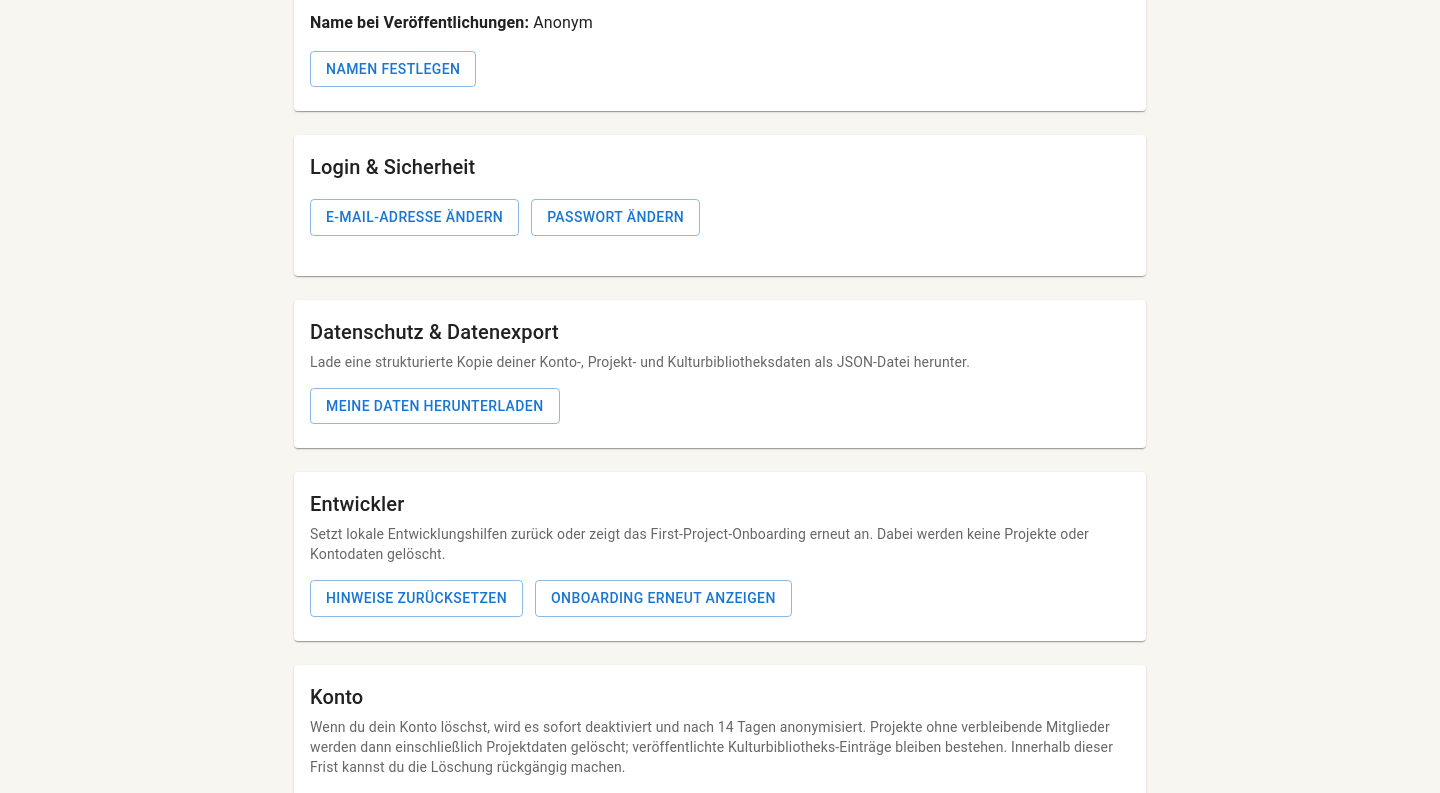
Test case: AccountSettingsPage › renders compact sections and keeps delete disabled until confirmation phrase is present
(page scrolled)
Check: the heading "Login & Sicherheit" is shown, box x1=310 y1=155 x2=475 y2=179
Check: the heading "Datenschutz & Datenexport" is shown, box x1=310 y1=320 x2=559 y2=344
Click the button "Meine Daten herunterladen". click: click(435, 406)
box: x1=310 y1=388 x2=560 y2=424
(page scrolled)
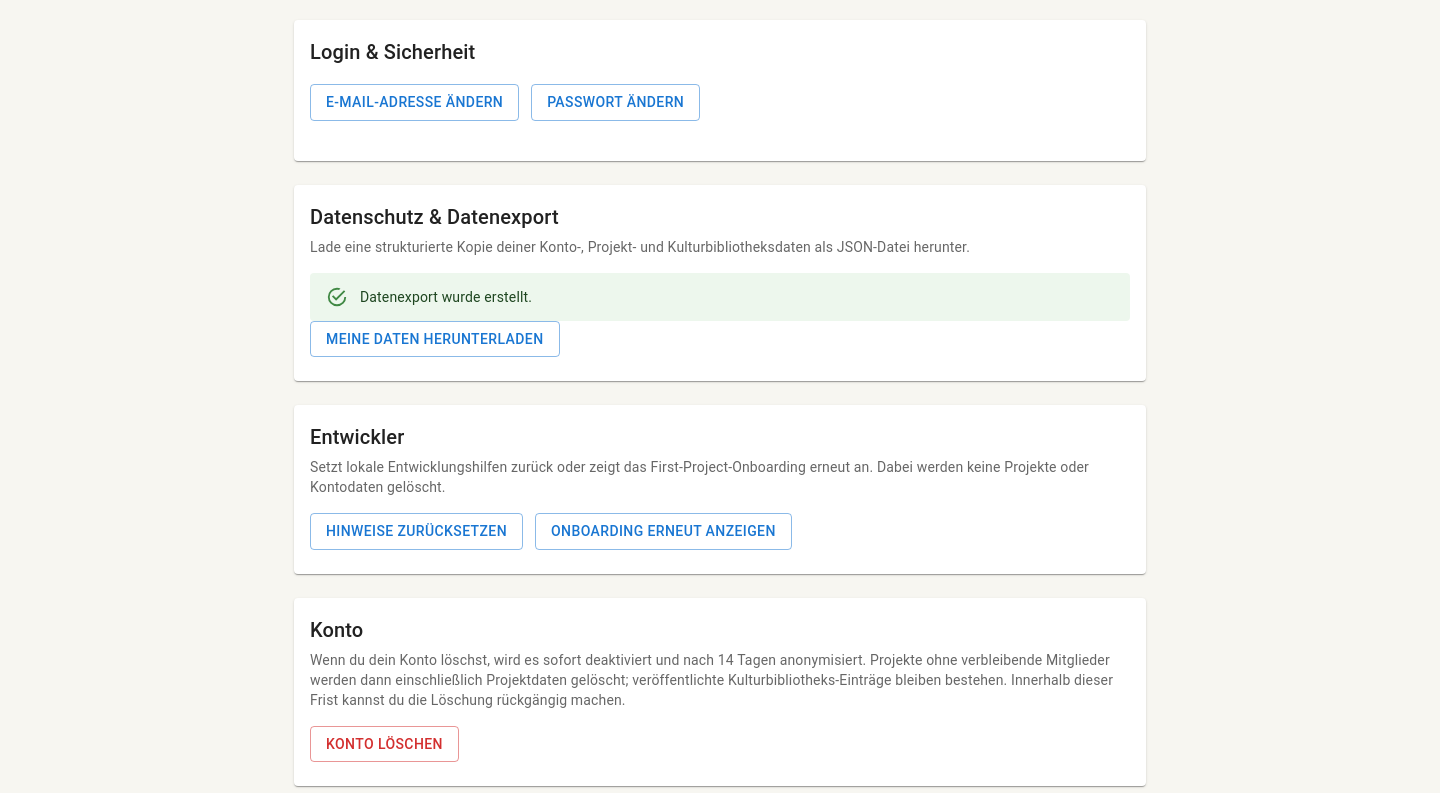
Check: the text "Datenexport wurde erstellt." is shown, box x1=360 y1=288 x2=532 y2=304
Click the button "Konto löschen". click: click(384, 744)
box: x1=310 y1=726 x2=459 y2=762
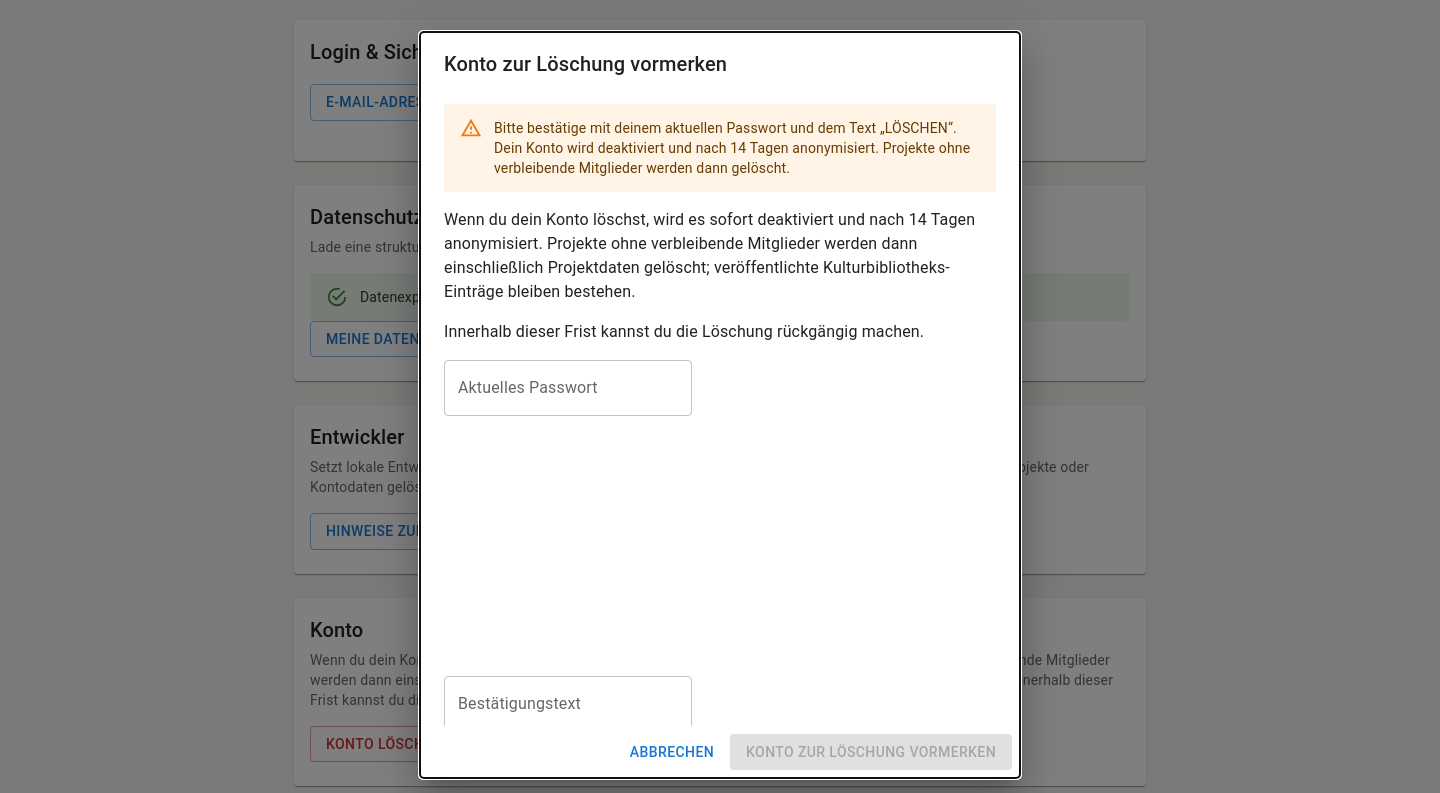
Check: the text "Projekte ohne verbleibende Mitglieder werden dann gelöscht" is shown, box x1=494 y1=120 x2=970 y2=176
Check: the button "Konto zur Löschung vormerken" is disabled, box x1=730 y1=734 x2=1012 y2=770
Type "secret" into the password field labelled "Aktuelles Passwort". click: (568, 388)
box: x1=444 y1=360 x2=692 y2=416
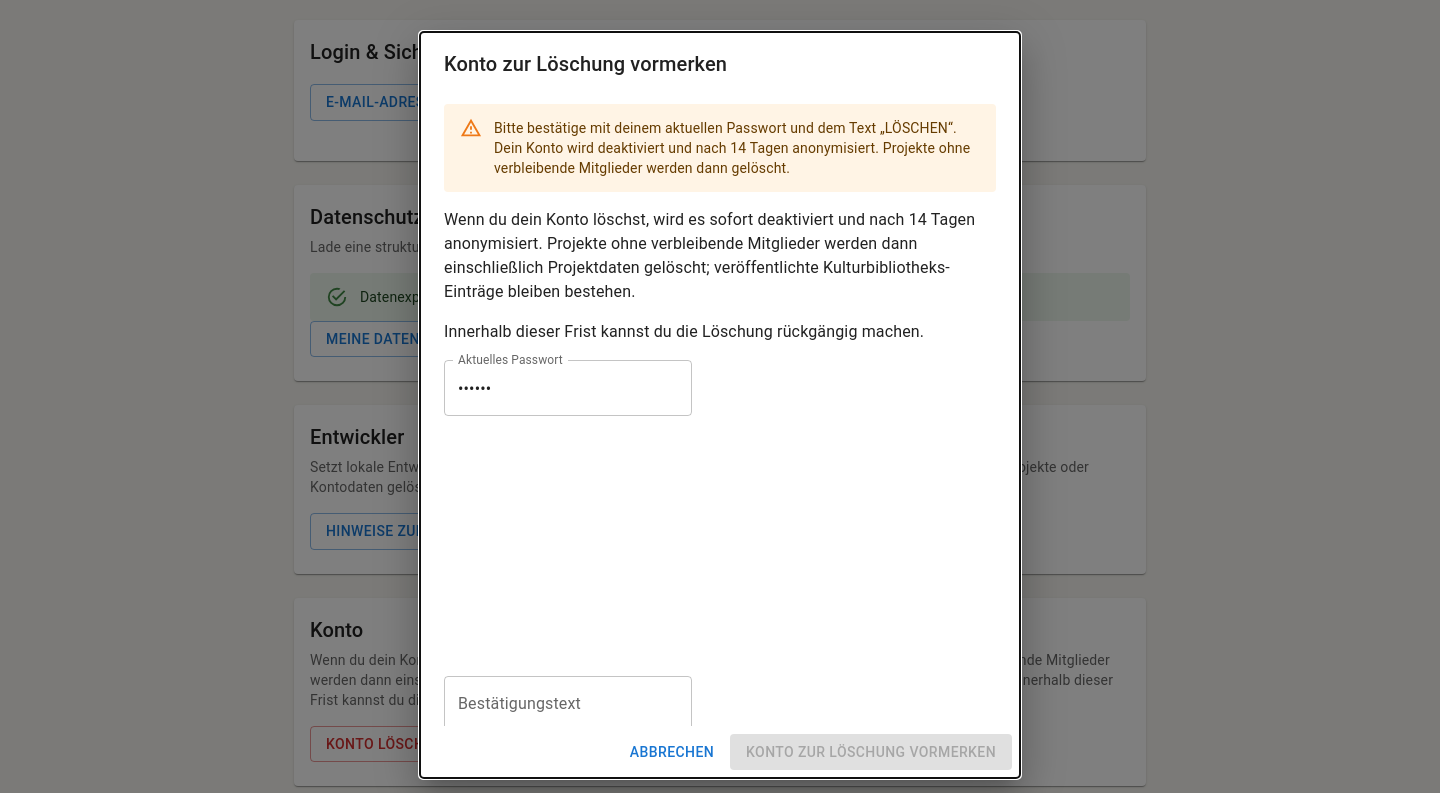
Type "DELETE" into the field labelled "Bestätigungstext". click: (568, 704)
box: x1=444 y1=676 x2=692 y2=732
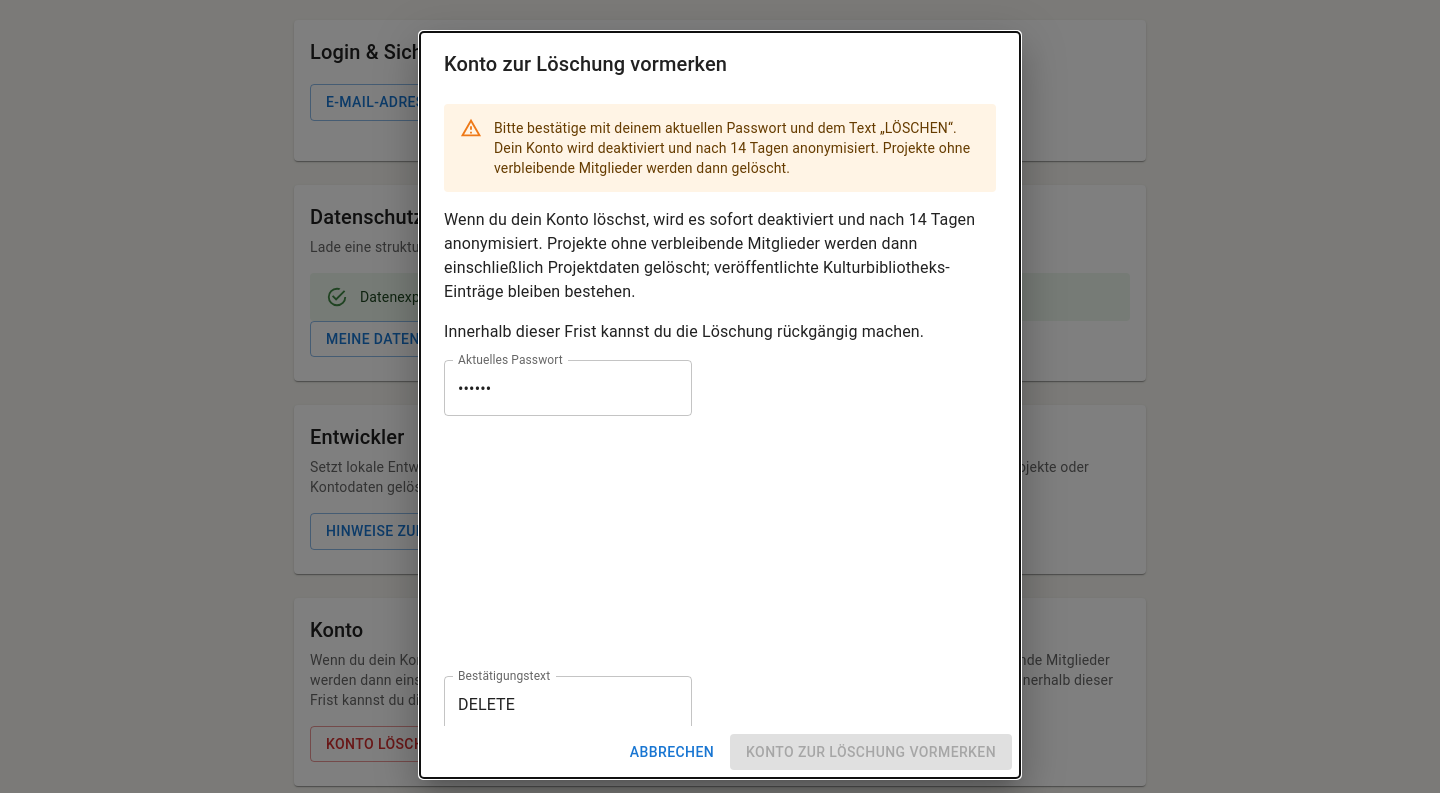
Check: the button "Konto zur Löschung vormerken" is disabled, box x1=730 y1=734 x2=1012 y2=770
Replace the text in the field labelled "Bestätigungstext" with "LÖSCHEN". click: (568, 704)
box: x1=444 y1=676 x2=692 y2=732
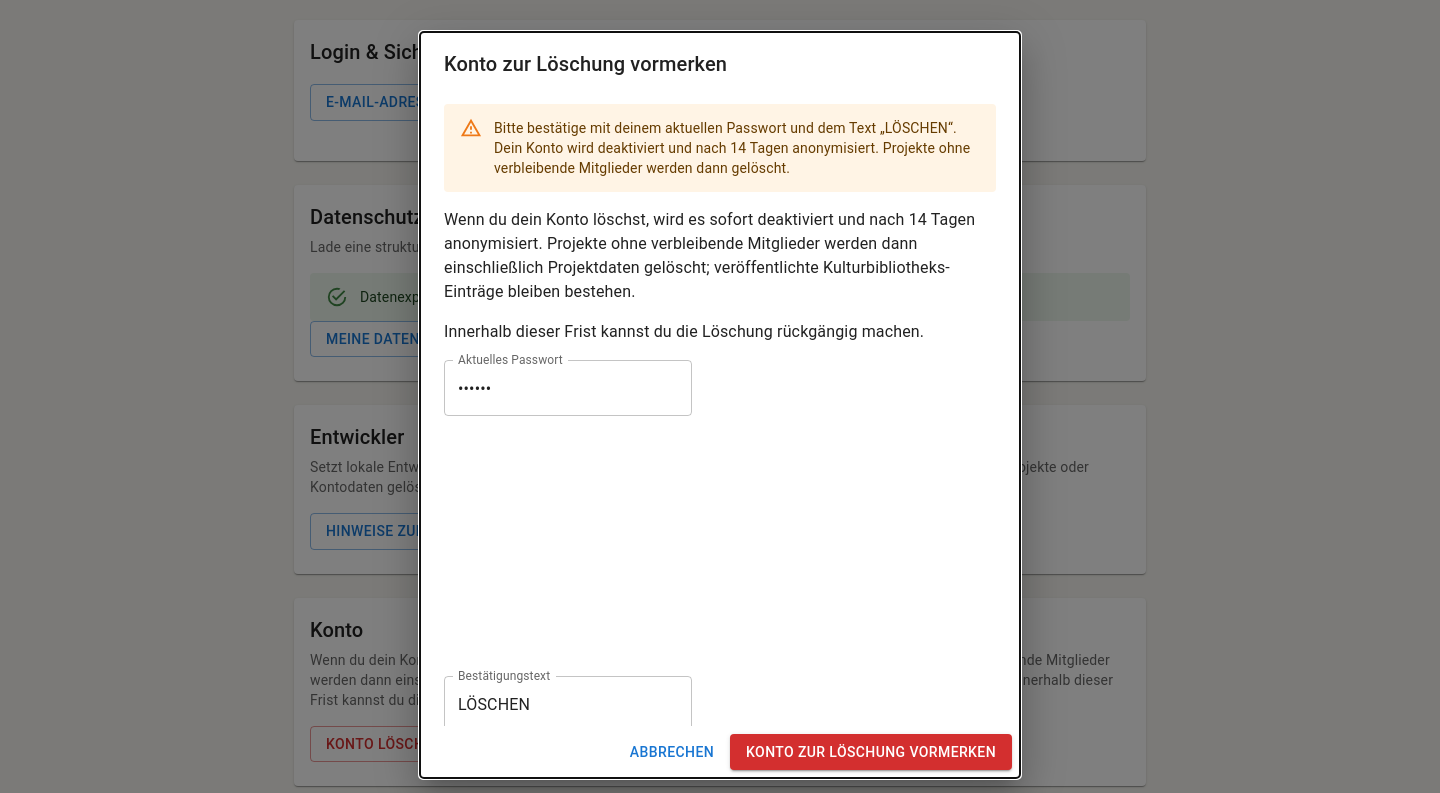
Check: the button "Konto zur Löschung vormerken" is enabled, box x1=730 y1=734 x2=1012 y2=770
